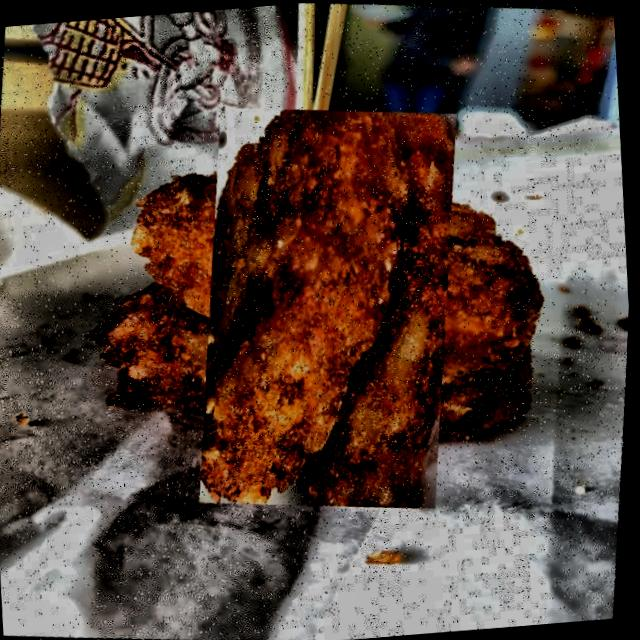Food: (136, 117, 524, 497)
